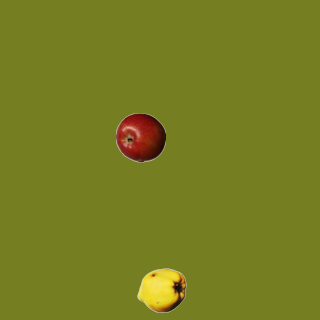Apple Braeburn: (115, 112, 165, 162)
Quince: (136, 265, 186, 315)
